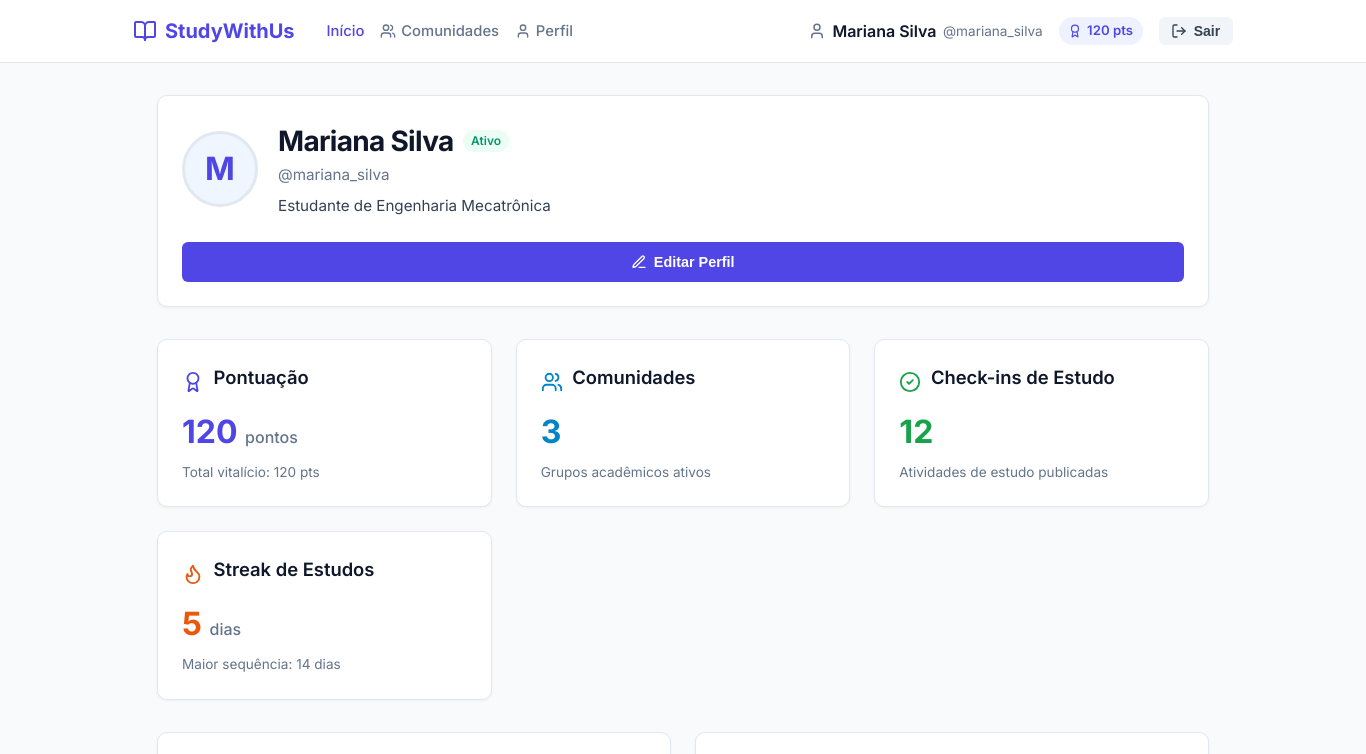
Test: ProfilePage › switches to edit mode, updates profile and saves changes
Click the button "Editar Perfil". click: click(683, 262)
box: top-left (182, 242), bottom-right (1184, 282)
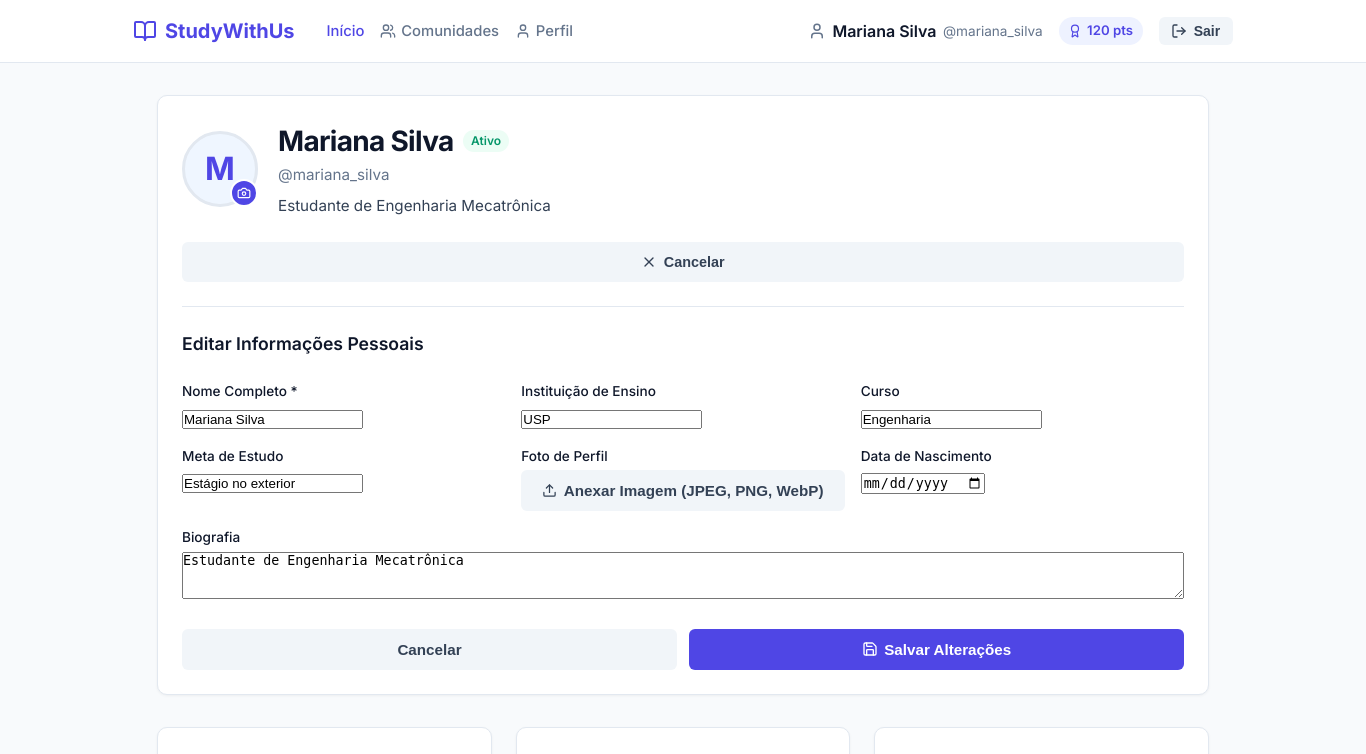
Expected: the heading "Editar Informações Pessoais" is shown, top-left (182, 333), bottom-right (424, 354)
Replace the text in the field showing "Mariana Silva" below "Nome Completo *" with "Mariana Silva Santos". click: (272, 419)
box: top-left (182, 410), bottom-right (363, 429)
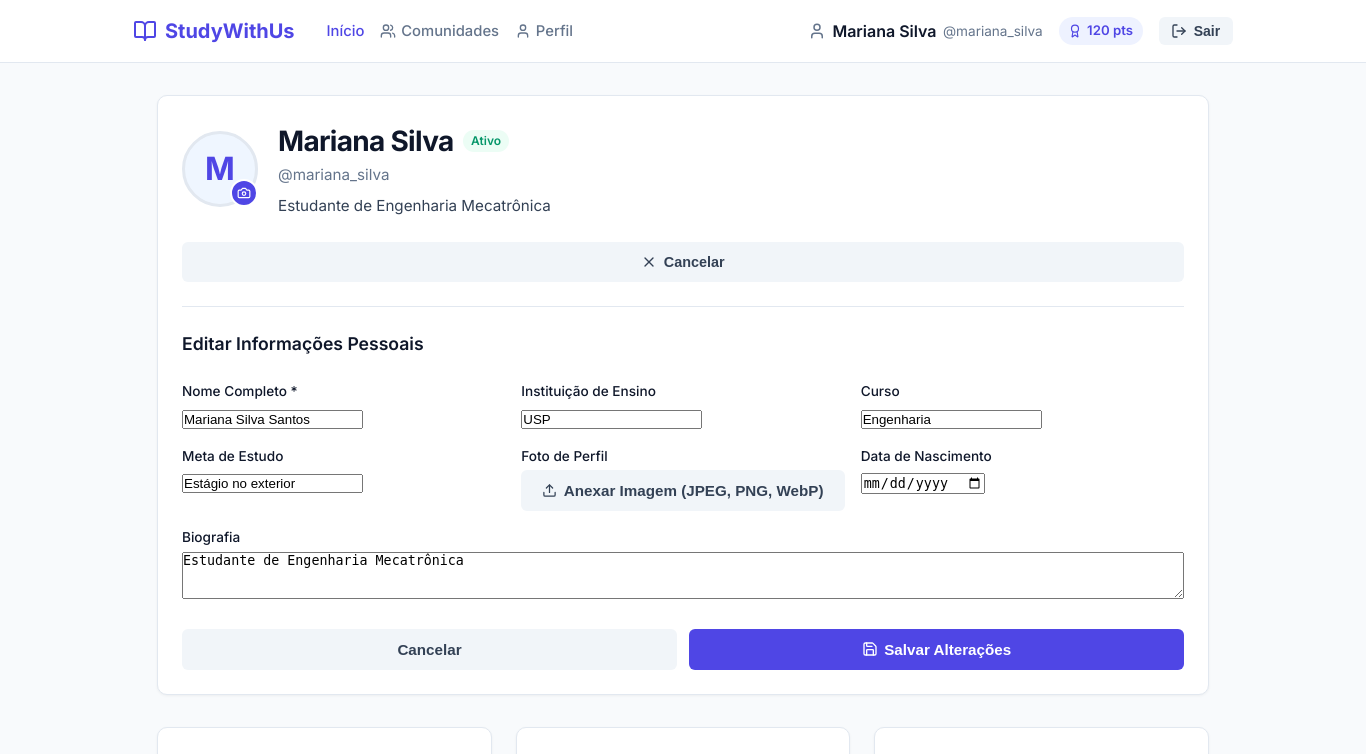
Replace the text in the text box showing "Estudante de Engenharia Mecatrônica" with "Engenheira e pesquisadora em robótica". click: (683, 575)
box: top-left (182, 552), bottom-right (1184, 598)
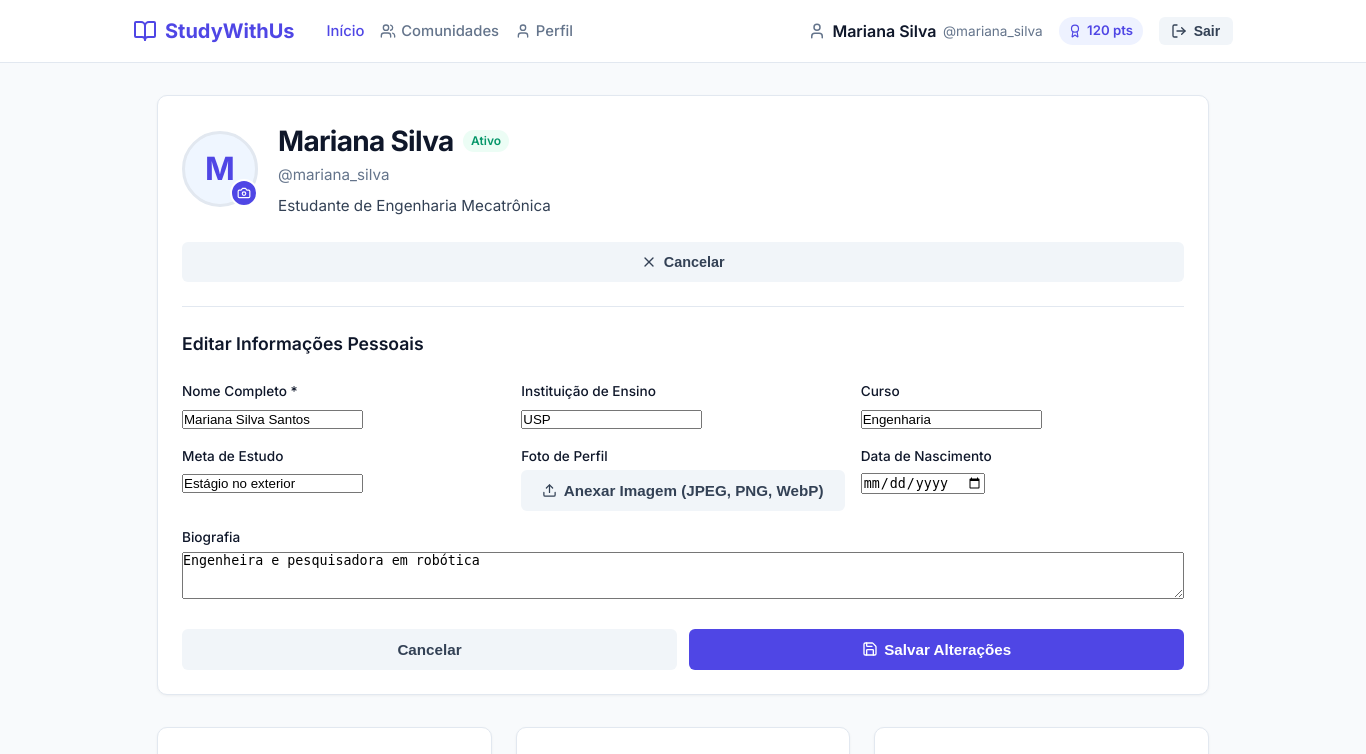
Click the button "Salvar Alterações". click: click(936, 649)
box: top-left (689, 628), bottom-right (1184, 670)
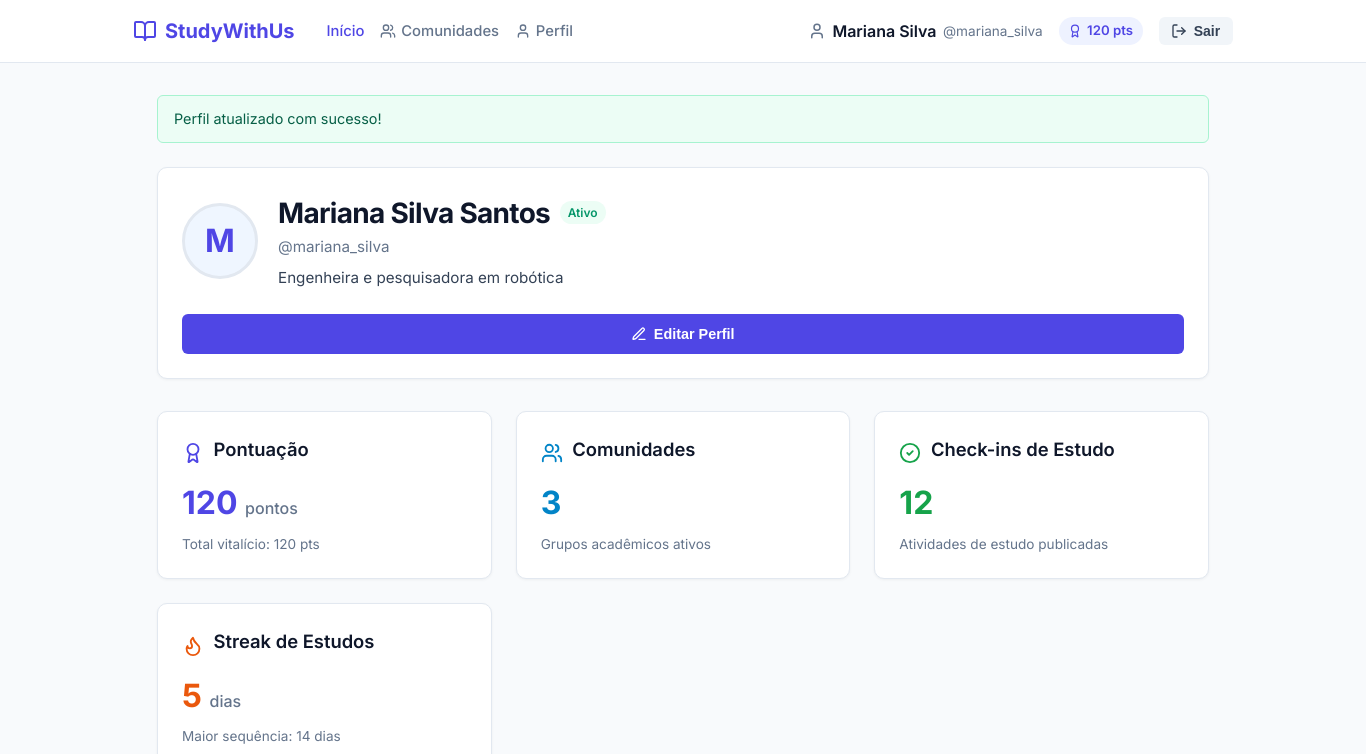
Expected: the text "Perfil atualizado com sucesso!" is shown, top-left (157, 95), bottom-right (1209, 143)
